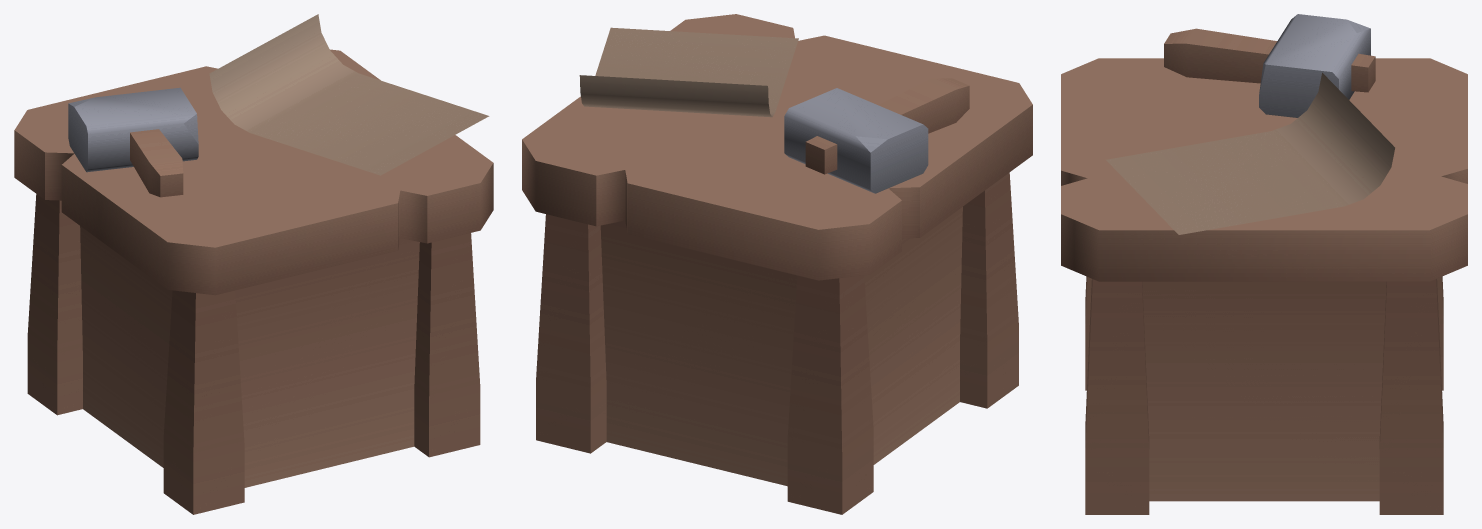
Rendered from camp_workbench.glb.
3 renders of one model, left to right at view 1: azimuth 30°, elevation 25°; view 2: azimuth 150°, elevation 25°; view 3: azimuth 270°, elevation 25°, orthographic. The views are drawn at different scales.
Parts seen in each view (by area): view 1: workbench, paper, hammer; view 2: workbench, paper, hammer; view 3: workbench, paper, hammer.
Part boxes in pixels (left/top/right/bottom): workbench: left=14, top=49, right=493, bottom=514; paper: left=209, top=14, right=489, bottom=175; hammer: left=68, top=87, right=198, bottom=197; workbench: left=522, top=14, right=1032, bottom=514; paper: left=579, top=27, right=798, bottom=117; hammer: left=784, top=78, right=969, bottom=193; workbench: left=1061, top=58, right=1467, bottom=514; paper: left=1106, top=72, right=1394, bottom=234; hammer: left=1164, top=14, right=1375, bottom=117.
Bounding box in the file's own units: 0.863 × 0.7595 × 0.7835.
1 material, 1 textured.
